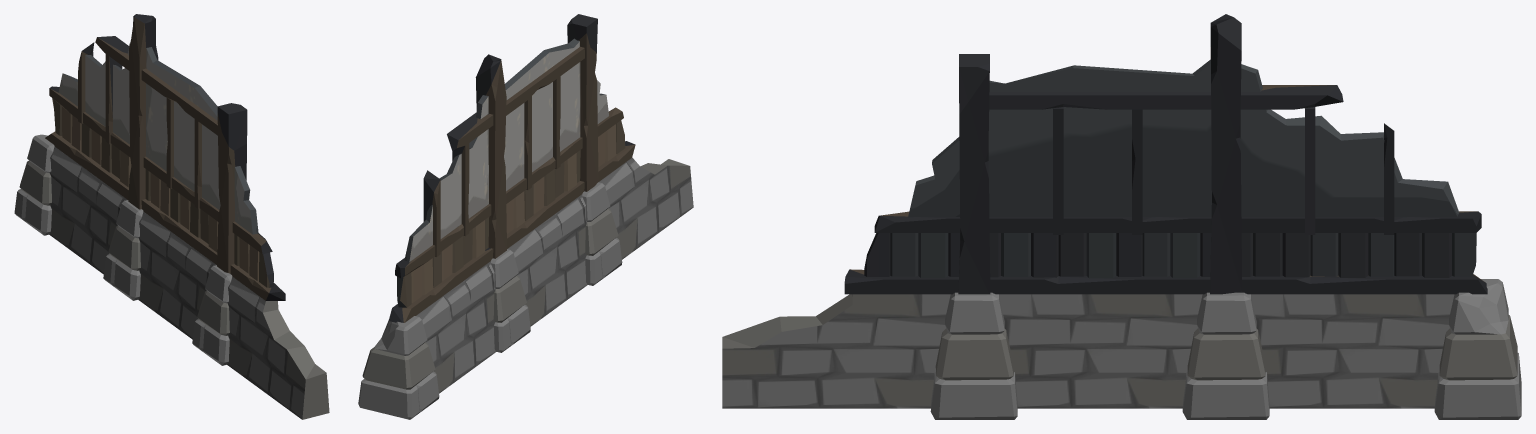
File: kingdom_SM_Prop_Destroyed_House_Piece_04_Burnt.gltf
3 views of the same model, side by side, from view 1: azimuth 30°, elevation 25°; view 2: azimuth 150°, elevation 25°; view 3: azimuth 270°, elevation 25° (orthographic). The views are drawn at different scales.
Visible parts, largest first — view 1: SM_Prop_Destroyed_House_Piece_04_Burnt; view 2: SM_Prop_Destroyed_House_Piece_04_Burnt; view 3: SM_Prop_Destroyed_House_Piece_04_Burnt.
Part boxes in pixels (x1,y1,x2,y2): SM_Prop_Destroyed_House_Piece_04_Burnt: (14,14,329,419); SM_Prop_Destroyed_House_Piece_04_Burnt: (358,14,693,419); SM_Prop_Destroyed_House_Piece_04_Burnt: (722,14,1521,419).
Bounding box in the file's own units: 0.8526 × 4.2 × 7.93.
1 material, 1 textured.
